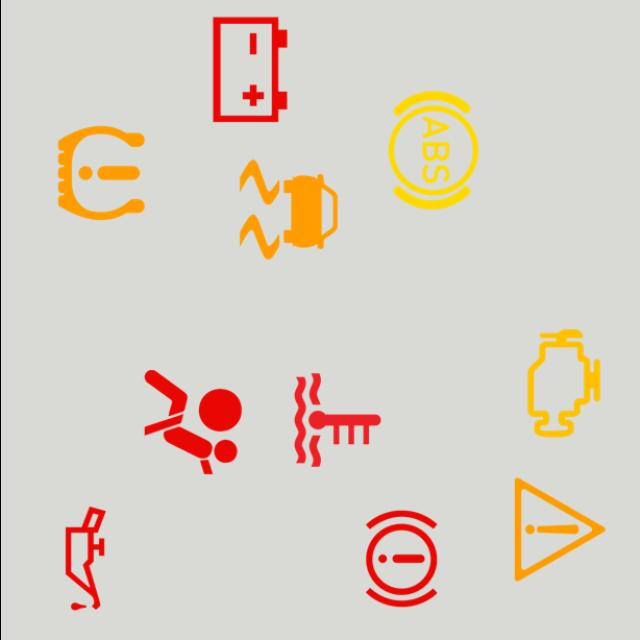Anti Lock Braking System: (368, 85, 498, 215)
Braking System Issue: (336, 494, 466, 624)
Charging System Issue: (184, 5, 314, 135)
Check Engine: (498, 318, 628, 448)
Electronic Stability Problem -ESP-: (222, 144, 352, 274)
Engine Overheating Warning Light: (272, 355, 402, 485)
Low Engine Oil Warning Light: (19, 494, 150, 624)
Low Tire Pressure Warning Light: (35, 108, 165, 238)
Master warning light: (494, 464, 624, 594)
SRS-Airbag: (127, 357, 257, 487)
